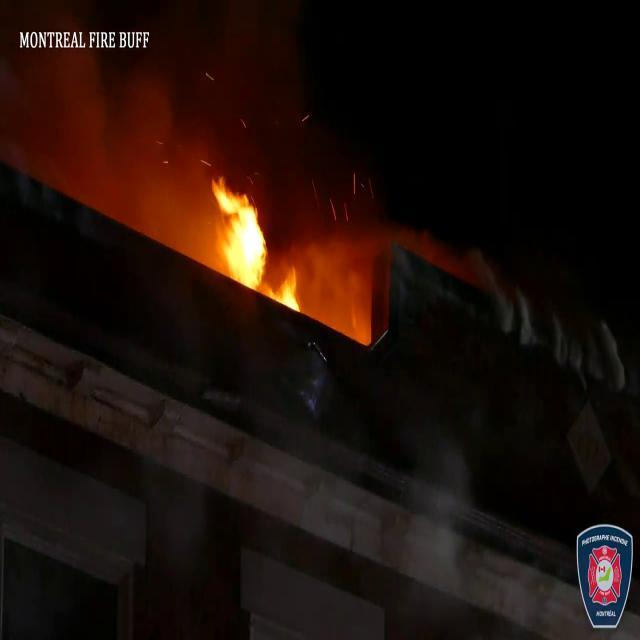Fire: (208, 174, 274, 290)
Smoke: (1, 17, 218, 239)
